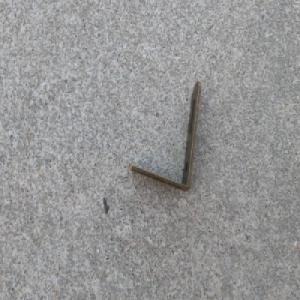MetalPart: (129, 80, 202, 193)
